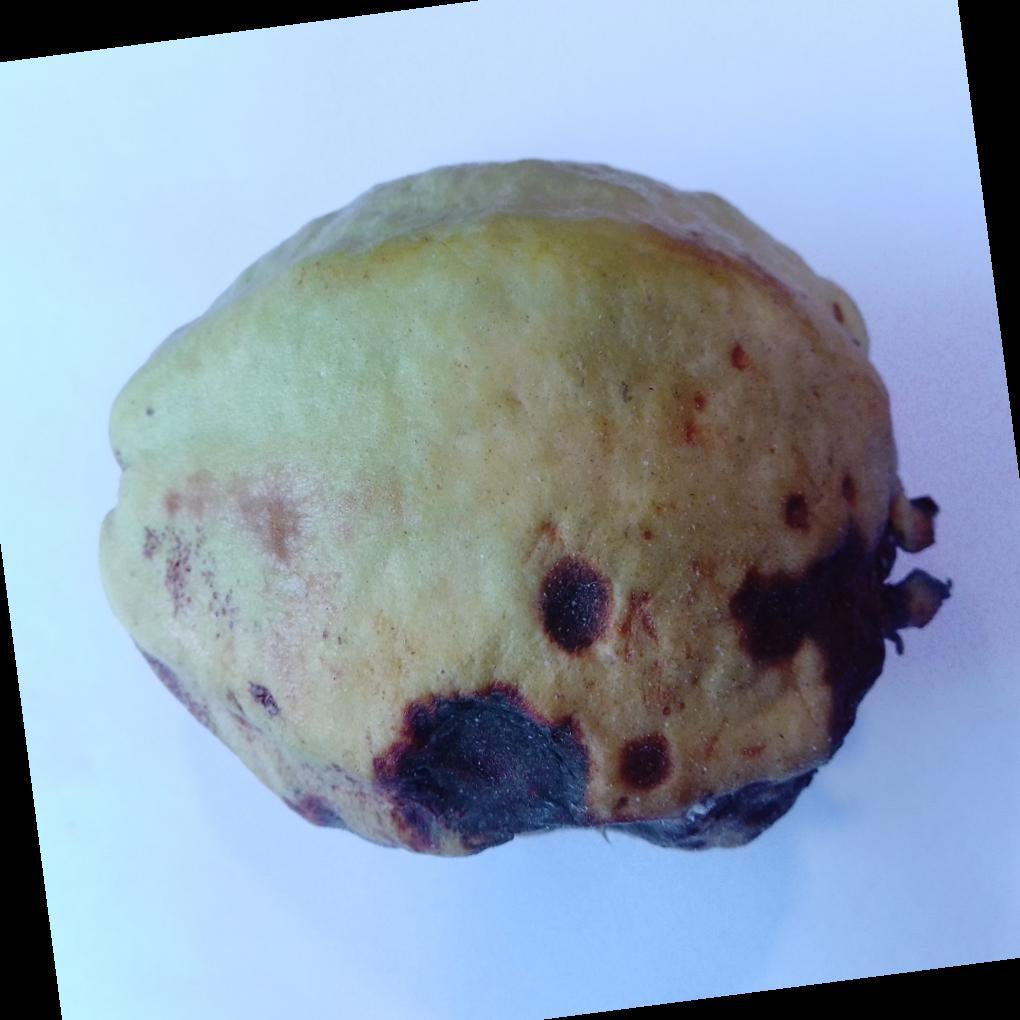FreshOrange: (96, 160, 951, 862)
